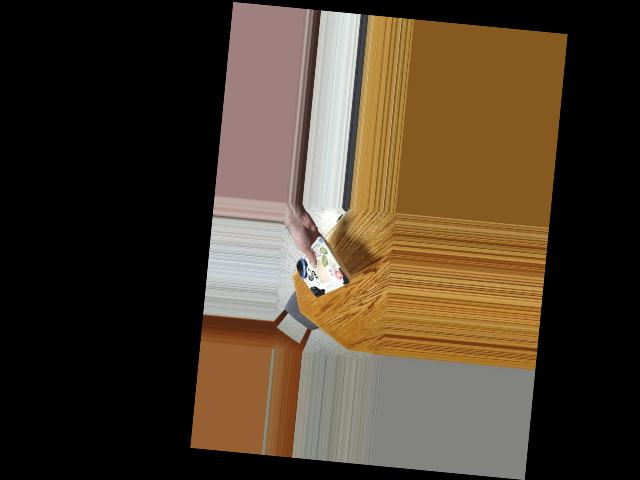cheese: (299, 242, 349, 299)
